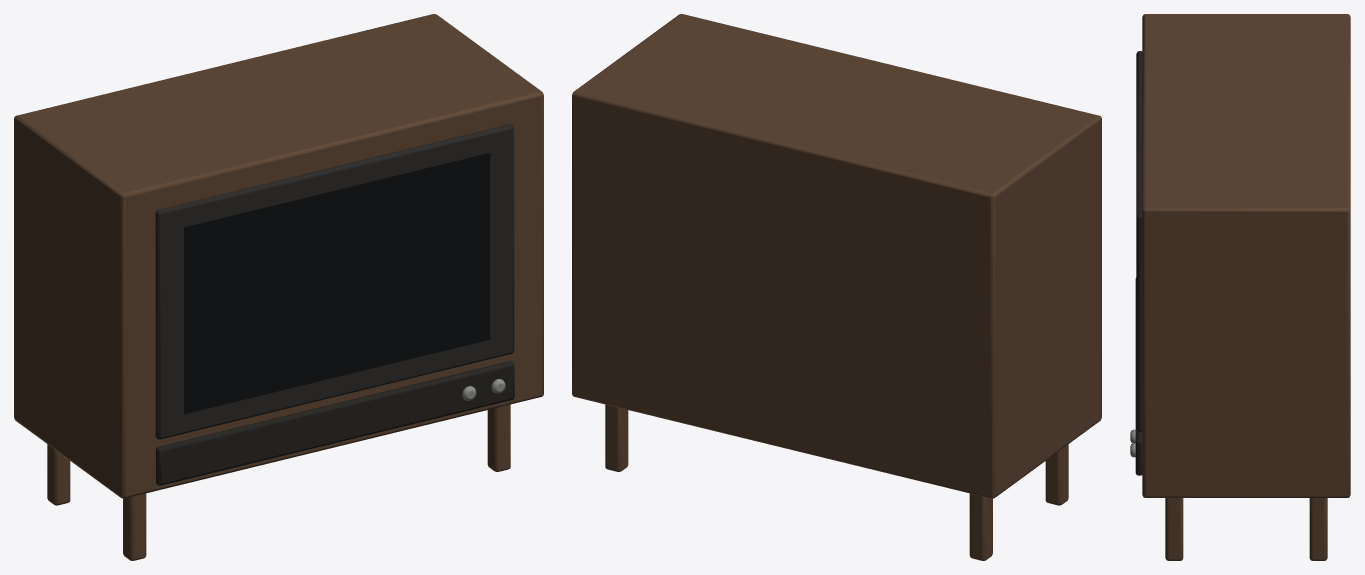
File: SM_L_TV_Console.fbx
3 renders of one model, left to right at view 1: azimuth 30°, elevation 25°; view 2: azimuth 150°, elevation 25°; view 3: azimuth 270°, elevation 25°, orthographic. The views are drawn at different scales.
Visible parts, largest first — view 1: SM_L_TV_Console__Body, SM_L_TV_Console__Screen; view 2: SM_L_TV_Console__Body; view 3: SM_L_TV_Console__Body.
Boxes of the visible parts, x1=… form: SM_L_TV_Console__Body: x1=14, y1=14, x2=543, y2=560; SM_L_TV_Console__Screen: x1=184, y1=153, x2=490, y2=414; SM_L_TV_Console__Body: x1=572, y1=14, x2=1101, y2=560; SM_L_TV_Console__Body: x1=1130, y1=14, x2=1350, y2=560.
Size of the model in its own units: 1.16 by 1 by 0.55.
